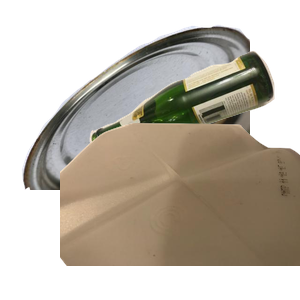glass: (87, 48, 300, 190)
metal: (19, 22, 259, 202)
plastic: (60, 120, 300, 300)
trash: (88, 177, 251, 300)
